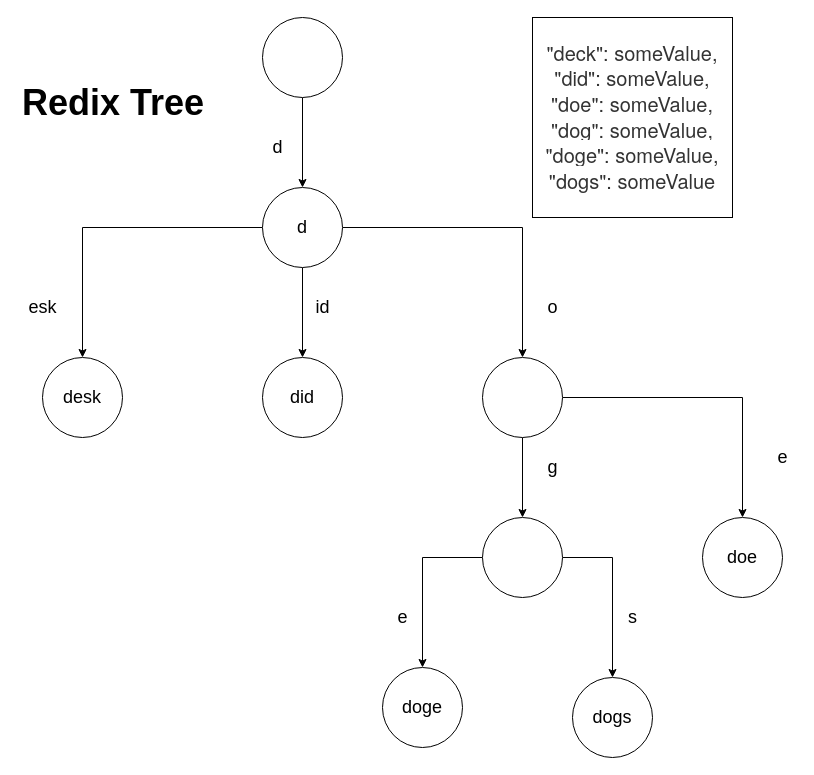
This 814x775 diagram has some shape labels left out. The box of each missing label's shape, as (x1, y1, x2, y2) in pixels:
do: (482, 356, 562, 438)
dog: (482, 516, 562, 598)
